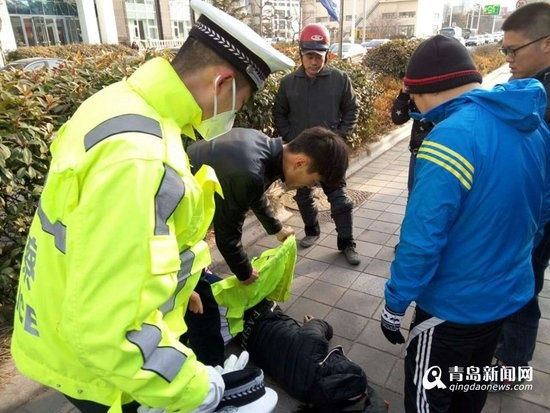falling: (224, 288, 382, 413)
